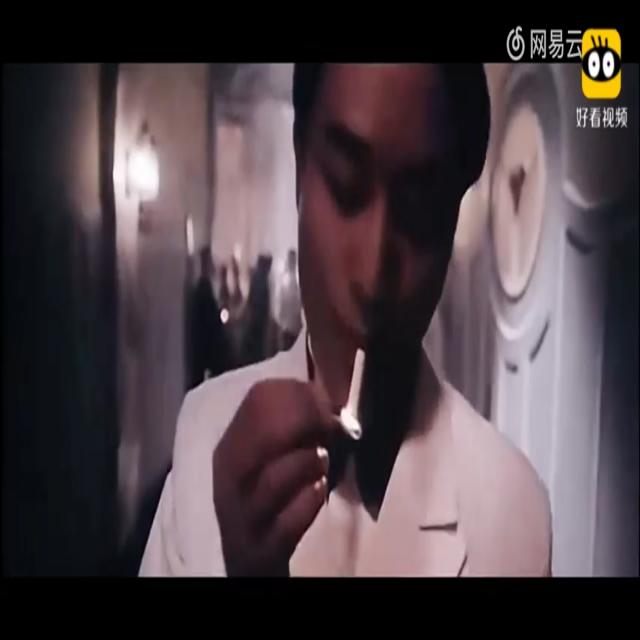smoke: (345, 349, 367, 437)
